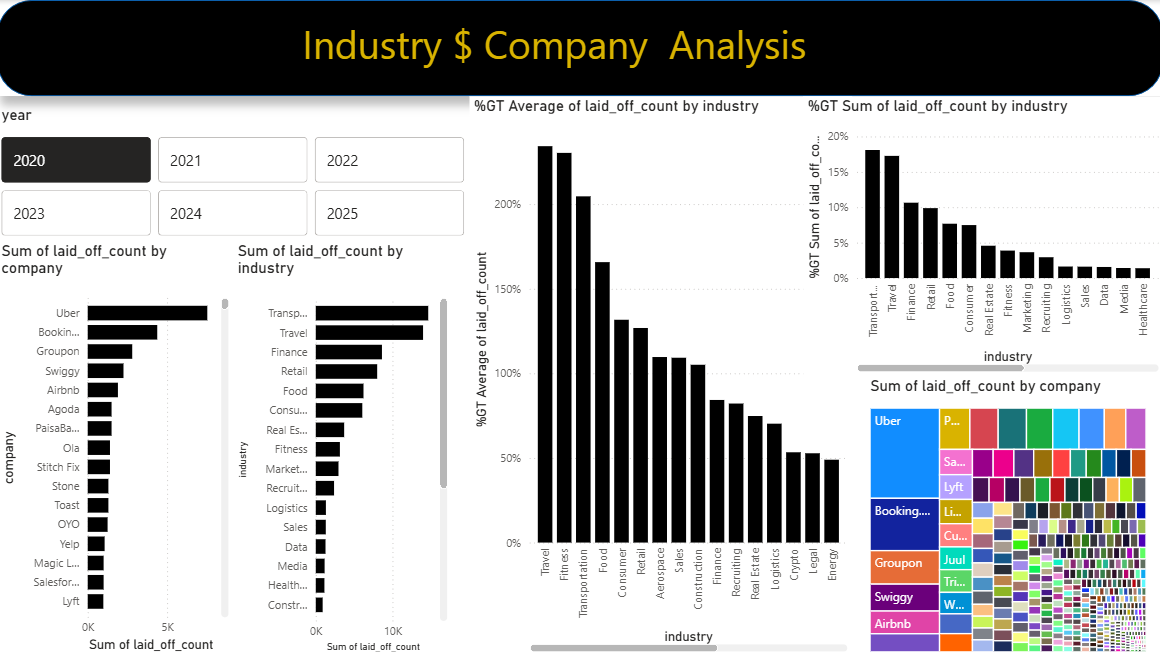

The dashboard page shown, as its layout file describes it:
{"tool":"powerbi","page":{"name":"Page 5","canvas":[1280,720],"ordinal":1},"visuals":[{"type":"advancedSlicerVisual","fields":{"Values":["layoff_events.year"]},"box":[0,115.3,518.7,149.6],"z":0},{"type":"shape","box":[0,0,1280.3,105.7],"z":1000},{"type":"textbox","box":[259.3,13.7,705.3,71.4],"z":2000},{"type":"clusteredBarChart","fields":{"Category":["layoff_events.company"],"Y":["Sum(layoff_events.laid_off_count)"]},"box":[0,264.8,259.3,455.6],"z":3000},{"type":"clusteredBarChart","fields":{"Category":["layoff_events.industry"],"Y":["Sum(layoff_events.laid_off_count)"]},"box":[259.3,264.8,240.1,455.6],"z":4000},{"type":"clusteredColumnChart","fields":{"Category":["layoff_events.industry"],"Y":["Sum(layoff_events.laid_off_count)"]},"box":[518.7,105.7,419.9,614.8],"z":5000},{"type":"clusteredColumnChart","fields":{"Category":["layoff_events.industry"],"Y":["Sum(layoff_events.laid_off_count)"]},"box":[885.1,105.7,395.2,307.4],"z":6000},{"type":"treemap","fields":{"Group":["layoff_events.company Hierarchy.company","layoff_events.company Hierarchy.industry"],"Values":["Sum(layoff_events.laid_off_count)"]},"box":[953.7,413,312.9,307.4],"z":6001}]}

Visuals, with their boxes in screenshot pixels (x1, y1, x2, y2), scaled from the page's 1280x720 canvas onto the 1160x655 screenshot:
advancedSlicerVisual - layoff_events.year: l=0, t=105, r=470, b=241
shape: l=0, t=0, r=1159, b=96
textbox: l=235, t=12, r=874, b=77
clusteredBarChart - layoff_events.company x Sum(layoff_events.laid_off_count): l=0, t=241, r=235, b=654
clusteredBarChart - layoff_events.industry x Sum(layoff_events.laid_off_count): l=235, t=241, r=453, b=654
clusteredColumnChart - layoff_events.industry x Sum(layoff_events.laid_off_count): l=470, t=96, r=851, b=654
clusteredColumnChart - layoff_events.industry x Sum(layoff_events.laid_off_count): l=802, t=96, r=1159, b=376
treemap - layoff_events.company Hierarchy.company x layoff_events.company Hierarchy.industry: l=864, t=376, r=1148, b=654
